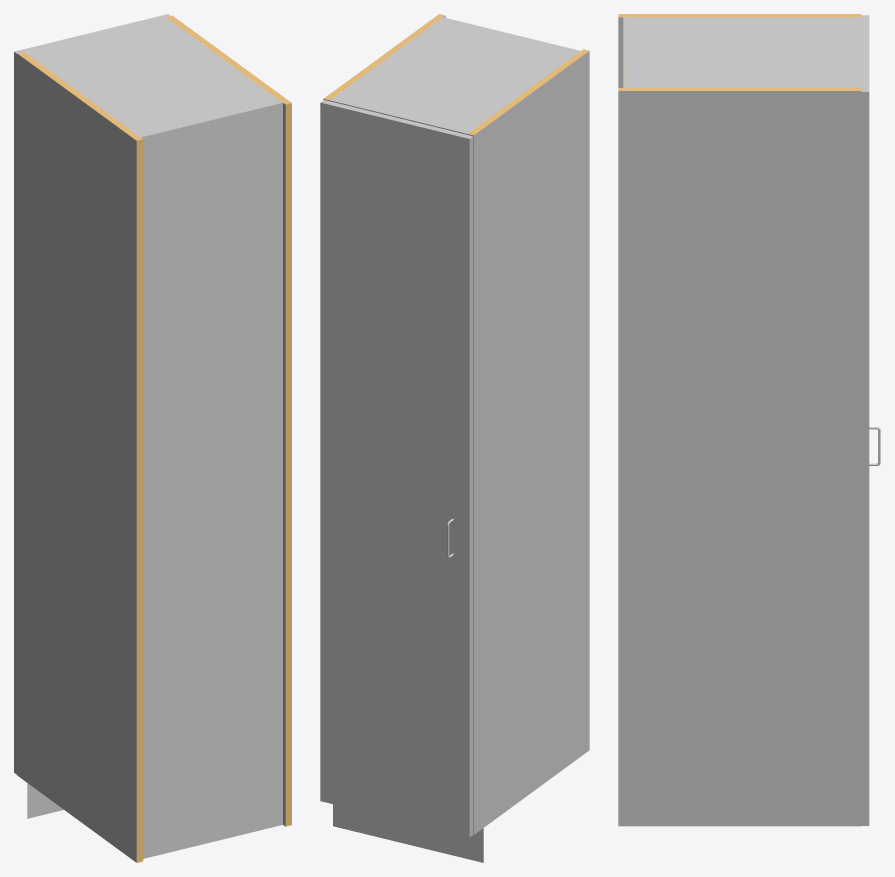
3 views of the same model, side by side, from view 1: azimuth 30°, elevation 25°; view 2: azimuth 150°, elevation 25°; view 3: azimuth 270°, elevation 25° (orthographic). The views are drawn at different scales.
Visible parts, largest first — view 1: mesh22_mesh22-geometry, mesh1_mesh1-geometry, mesh17_mesh17-geometry, mesh5_mesh5-geometry, mesh11_mesh11-geometry, mesh38_mesh38-geometry, mesh8_mesh8-geometry, mesh10_mesh10-geometry, mesh4_mesh4-geometry, mesh21_mesh21-geometry; view 2: mesh32_mesh32-geometry, mesh1_mesh1-geometry, mesh17_mesh17-geometry, mesh21_mesh21-geometry, mesh38_mesh38-geometry, mesh10_mesh10-geometry, mesh4_mesh4-geometry, mesh3_mesh3-geometry, mesh36_mesh36-geometry; view 3: mesh7_mesh7-geometry, mesh17_mesh17-geometry, mesh30_mesh30-geometry, mesh4_mesh4-geometry, mesh10_mesh10-geometry, mesh36_mesh36-geometry.
Part boxes in pixels (left/top/right/bottom): mesh22_mesh22-geometry: left=136, top=101, right=285, bottom=858; mesh1_mesh1-geometry: left=17, top=54, right=136, bottom=862; mesh17_mesh17-geometry: left=24, top=17, right=281, bottom=136; mesh5_mesh5-geometry: left=136, top=139, right=143, bottom=862; mesh11_mesh11-geometry: left=285, top=103, right=291, bottom=826; mesh38_mesh38-geometry: left=14, top=52, right=17, bottom=774; mesh8_mesh8-geometry: left=283, top=103, right=285, bottom=826; mesh10_mesh10-geometry: left=166, top=15, right=291, bottom=104; mesh4_mesh4-geometry: left=17, top=52, right=142, bottom=140; mesh21_mesh21-geometry: left=27, top=783, right=63, bottom=818; mesh32_mesh32-geometry: left=320, top=102, right=469, bottom=837; mesh1_mesh1-geometry: left=474, top=51, right=589, bottom=834; mesh17_mesh17-geometry: left=330, top=18, right=579, bottom=133; mesh21_mesh21-geometry: left=333, top=804, right=483, bottom=862; mesh38_mesh38-geometry: left=469, top=137, right=473, bottom=837; mesh10_mesh10-geometry: left=323, top=14, right=444, bottom=100; mesh4_mesh4-geometry: left=468, top=49, right=588, bottom=135; mesh3_mesh3-geometry: left=467, top=134, right=473, bottom=834; mesh36_mesh36-geometry: left=320, top=100, right=472, bottom=138; mesh7_mesh7-geometry: left=618, top=91, right=861, bottom=826; mesh17_mesh17-geometry: left=626, top=17, right=861, bottom=87; mesh30_mesh30-geometry: left=861, top=92, right=869, bottom=825; mesh4_mesh4-geometry: left=618, top=14, right=861, bottom=17; mesh10_mesh10-geometry: left=618, top=88, right=861, bottom=90; mesh36_mesh36-geometry: left=861, top=15, right=869, bottom=91.
Bounding box in the file's own units: 0.2006 × 0.9363 × 0.2882.
